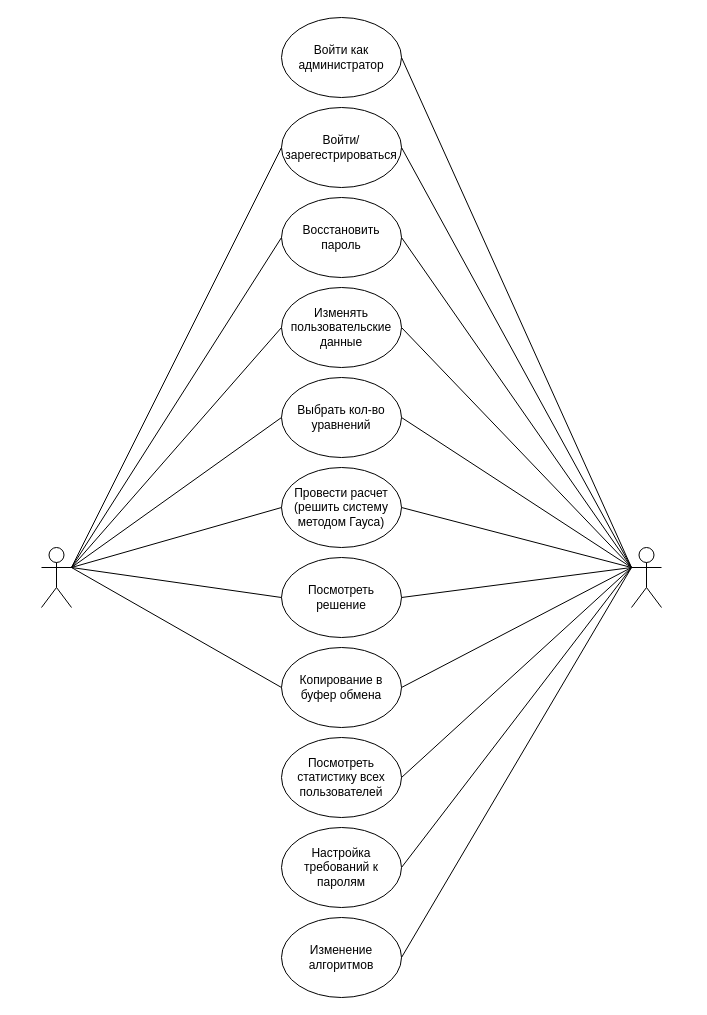
The diagram is 707 pixels wide and 1015 high, and some of its shapes have lost their labels. The box of each missing label's shape, as (x1, y1, x2, y2) in pixels:
Администратор: (630, 546, 662, 608)
Пользователь: (40, 546, 72, 608)
